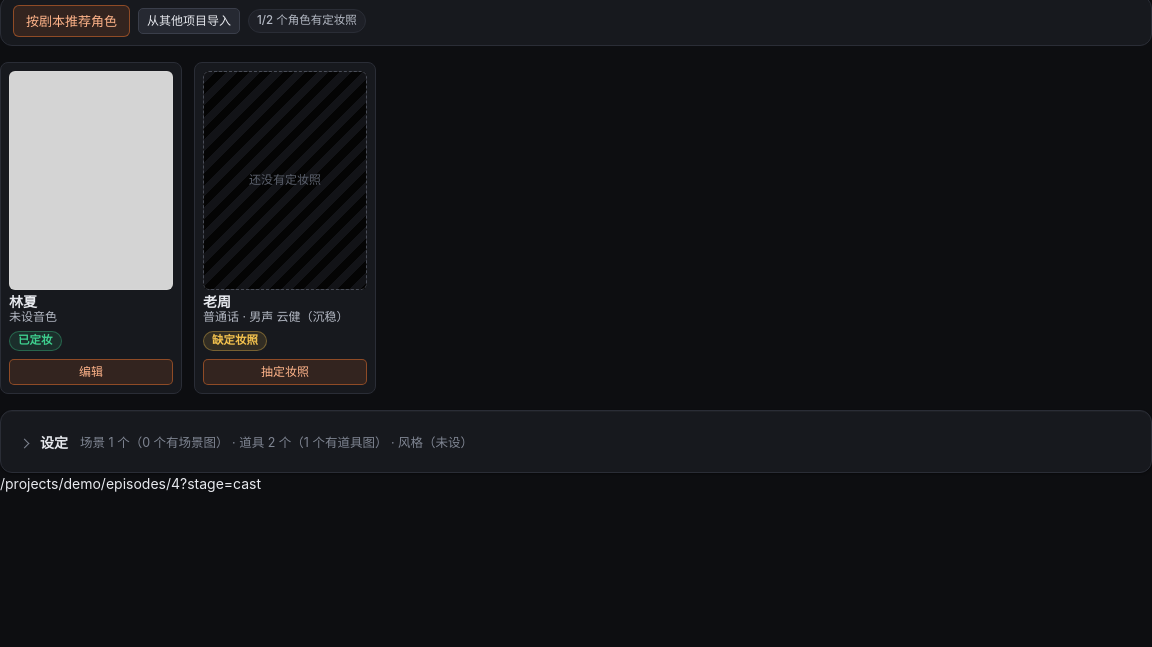
Test: CastStage › 「设定」里列出分镜里的道具：摘要写道具数和有道具图的个数，每个道具一张卡
Click the button "设定 场景 1 个（0 个有场景图） · 道具 2 个（1 个有道具图） · 风格（未设）" at (179, 442), box x1=21 y1=436 x2=1131 y2=450
(page scrolled)
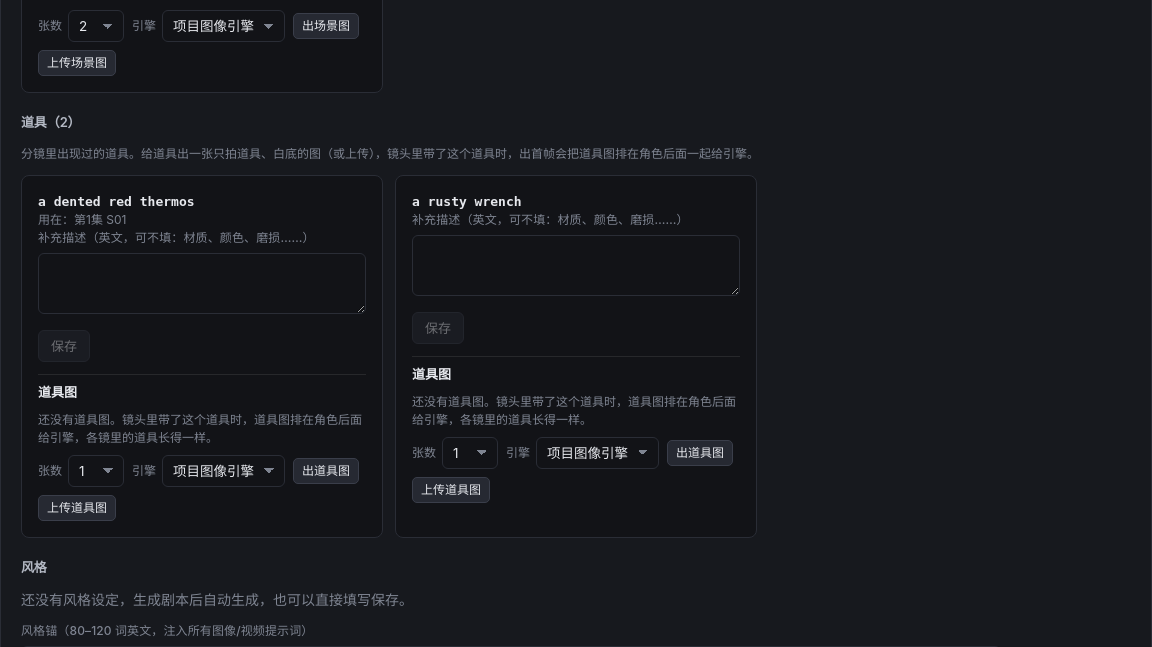
Result: the heading "道具（2）" is shown at x1=21 y1=114 x2=80 y2=130
Result: the element with test id "prop-5" shows "用在：第1集 S01" at x1=21 y1=175 x2=383 y2=538
Result: the element with test id "prop-6" is shown at x1=395 y1=175 x2=757 y2=538
